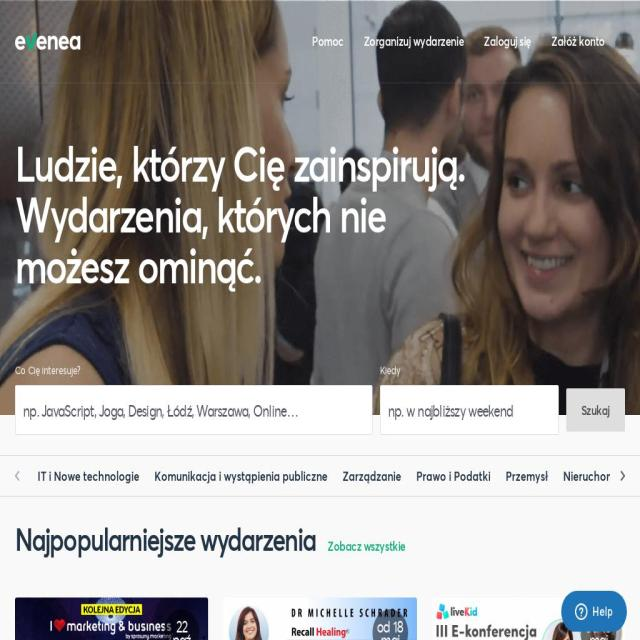button: (15, 597, 209, 640), (223, 597, 417, 640), (431, 597, 625, 640), (147, 456, 335, 496), (30, 456, 147, 496), (409, 456, 498, 496), (555, 456, 640, 496), (335, 456, 409, 496), (566, 388, 625, 432), (15, 22, 81, 60), (498, 456, 556, 496)
field: (16, 386, 372, 434), (380, 386, 558, 434)
heading: (15, 138, 496, 290), (15, 517, 316, 560)
iframe: (558, 590, 628, 632)
image: (0, 0, 640, 415), (15, 597, 209, 640), (223, 597, 417, 640), (431, 597, 625, 640), (15, 32, 81, 50), (15, 456, 30, 496), (610, 456, 625, 496)
label: (15, 364, 373, 377), (379, 364, 559, 377)
link: (328, 524, 406, 568), (363, 31, 464, 49), (551, 31, 606, 49), (484, 31, 532, 49), (312, 31, 344, 49)
text: (0, 0, 640, 415), (377, 619, 404, 640), (585, 619, 612, 640), (172, 619, 191, 640)
